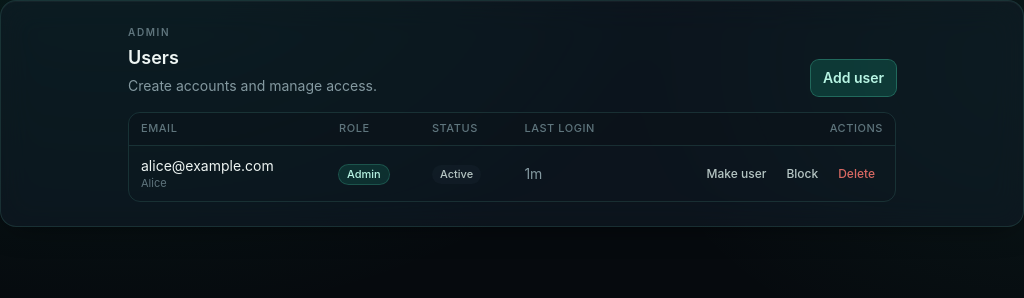
Scenario: UsersView — actions › surfaces the last-admin guard message on a 409
The width and height of the screenshot is (1024, 298).
Check: the text "alice@example.com" is shown, box [141, 157, 274, 174]
Click the button "Make user" at [736, 174], box [699, 162, 774, 186]
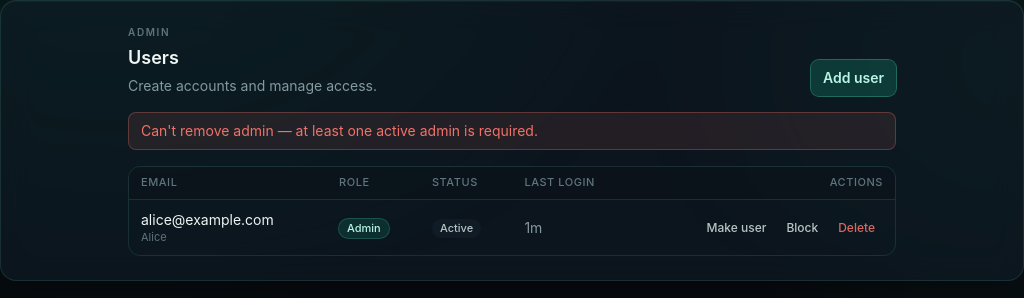
Check: the text "Can't remove admin — at least one active admin is required." is shown, box [128, 112, 896, 150]
